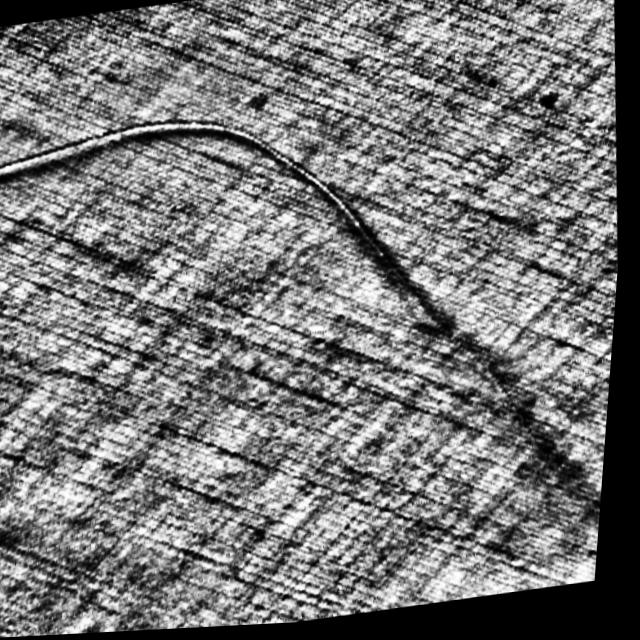Stitch: (0, 58, 393, 264)
